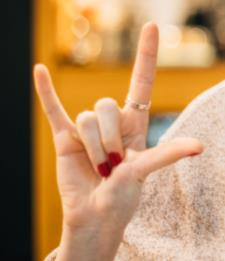back: (30, 19, 207, 229)
